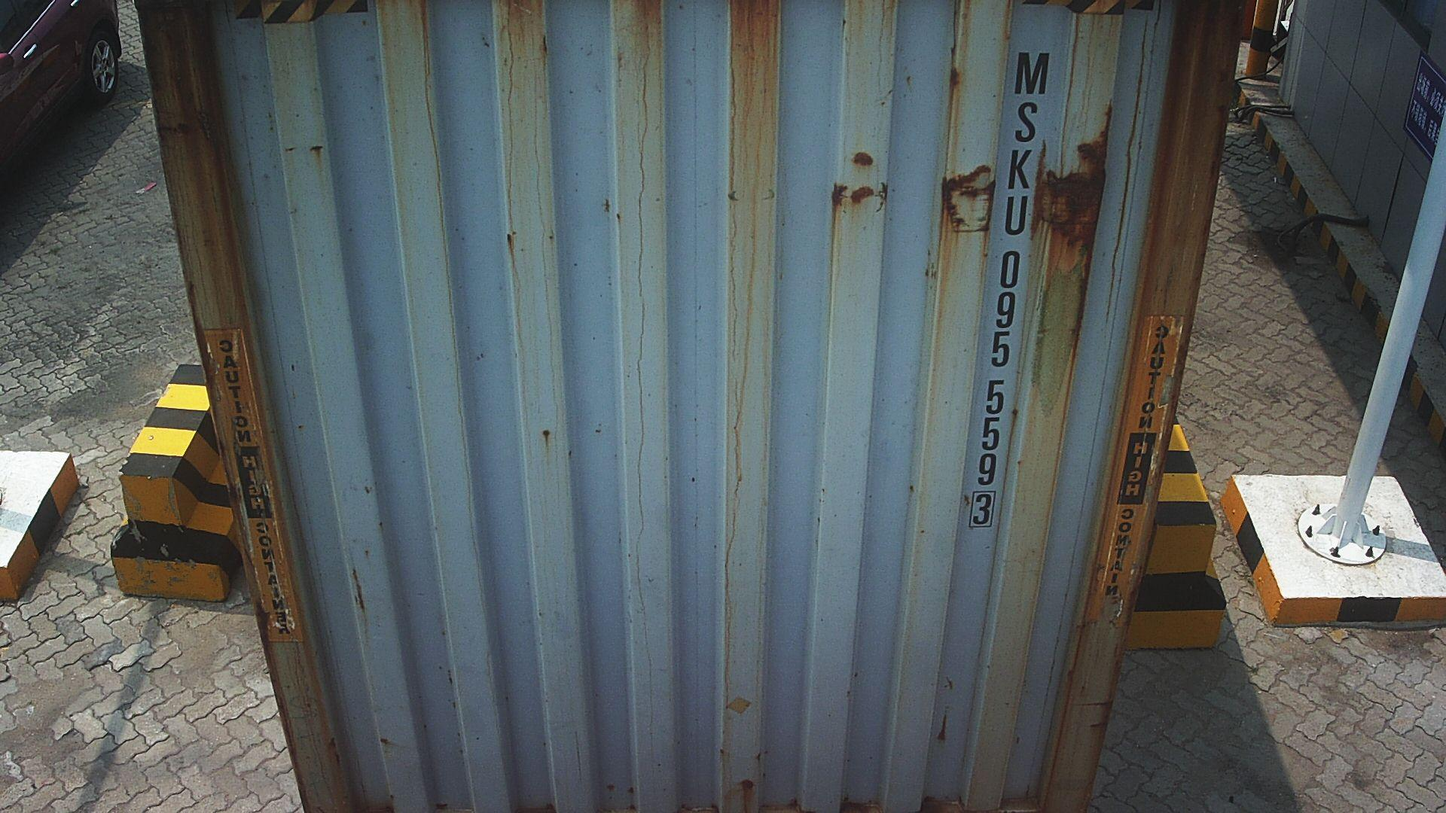container-numbers: (964, 42, 1056, 535)
